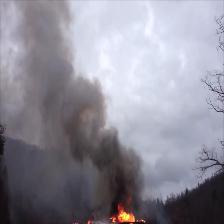fire: (116, 211, 135, 222)
smoke: (23, 0, 62, 112), (60, 85, 105, 151), (106, 148, 139, 203)
